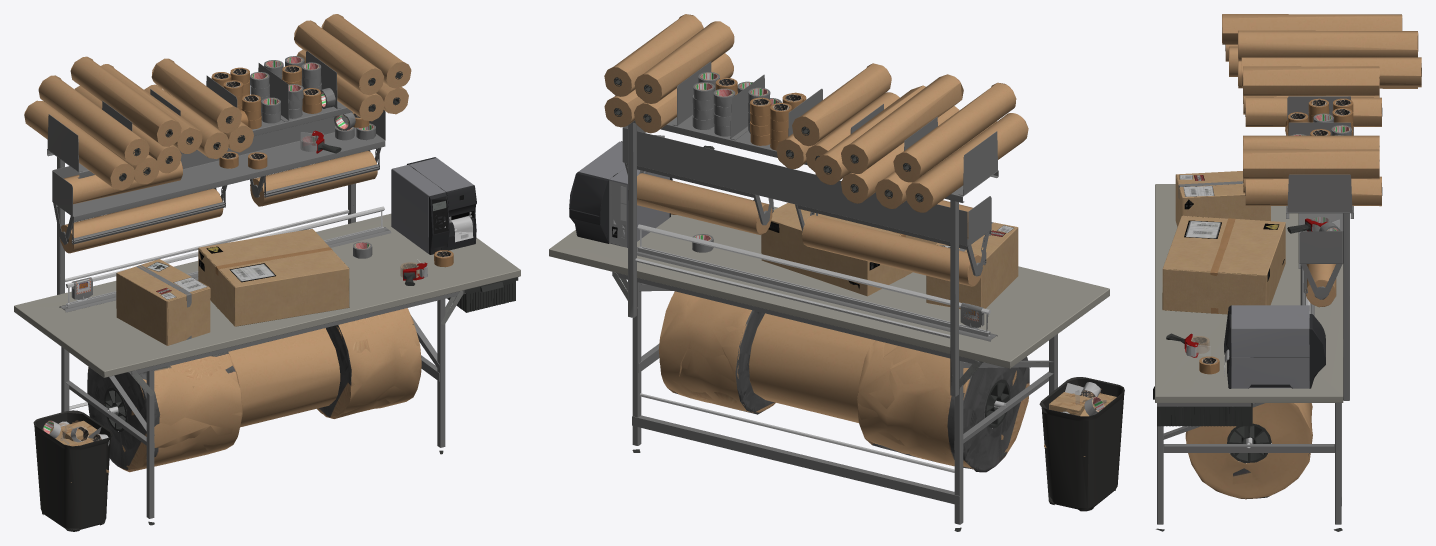
Rendered from packing_station_full.glb.
3 views of the same model, side by side, from view 1: azimuth 30°, elevation 25°; view 2: azimuth 150°, elevation 25°; view 3: azimuth 270°, elevation 25° (orthographic). The views are drawn at different scales.
Visible parts, largest first — view 1: packing_station_full_mesh; view 2: packing_station_full_mesh; view 3: packing_station_full_mesh.
Part boxes in pixels (x1,y1,x2,y2): packing_station_full_mesh: [14, 14, 520, 531]; packing_station_full_mesh: [549, 14, 1124, 531]; packing_station_full_mesh: [1153, 14, 1421, 531].
Bounding box in the file's own units: 2.6 × 2.03 × 1.3.
34 materials, 16 textured.
